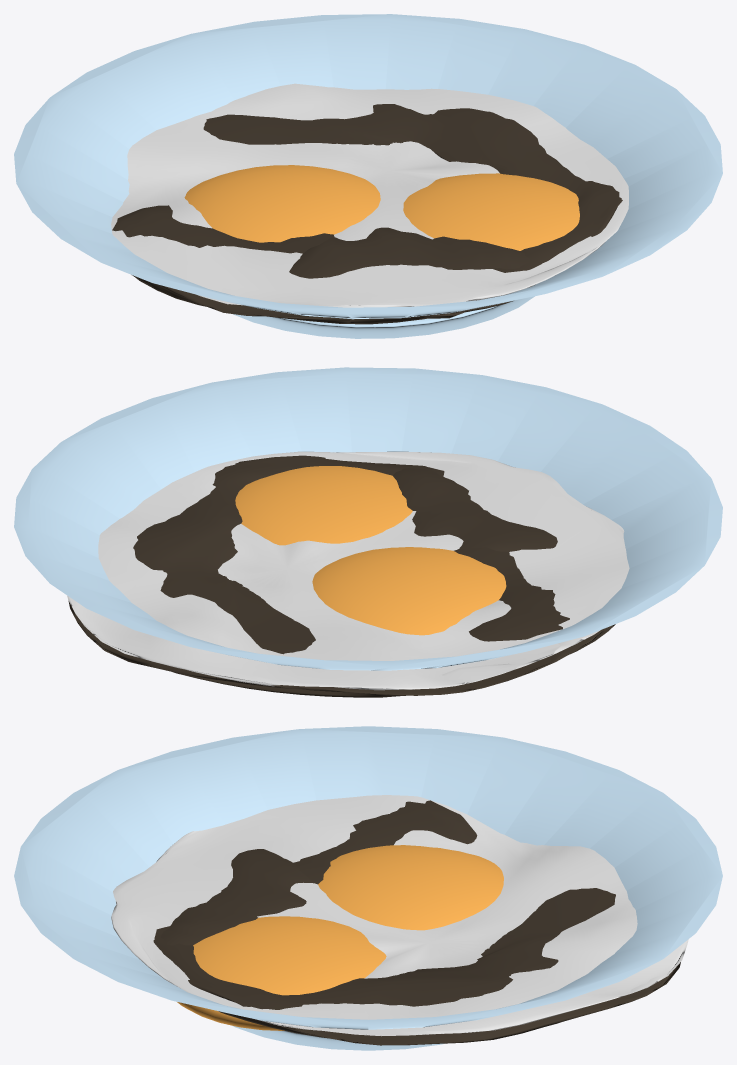
The model's file is eggEat.fbx.
3 renders of one model, top to bottom at view 1: azimuth 30°, elevation 25°; view 2: azimuth 150°, elevation 25°; view 3: azimuth 270°, elevation 25°, orthographic.
Visible parts, largest first — view 1: Cylinder.012, Sphere.011, Sphere.016, Sphere.012, Sphere.013; view 2: Cylinder.012, Sphere.011, Sphere.016, Sphere.012, Sphere.013; view 3: Cylinder.012, Sphere.011, Sphere.016, Sphere.012, Sphere.013.
Part boxes in pixels (x1,y1,x2,y2): Cylinder.012: [14, 14, 722, 338]; Sphere.011: [111, 83, 628, 307]; Sphere.016: [112, 104, 622, 324]; Sphere.012: [184, 165, 380, 242]; Sphere.013: [403, 173, 579, 250]; Cylinder.012: [14, 367, 722, 670]; Sphere.011: [67, 451, 629, 690]; Sphere.016: [68, 455, 615, 697]; Sphere.012: [312, 547, 506, 635]; Sphere.013: [235, 466, 412, 545]; Cylinder.012: [14, 726, 722, 1050]; Sphere.011: [111, 795, 688, 1036]; Sphere.016: [153, 800, 680, 1045]; Sphere.012: [318, 845, 503, 930]; Sphere.013: [177, 916, 386, 1030].
Bounding box in the file's own units: 200 × 29.66 × 200.
